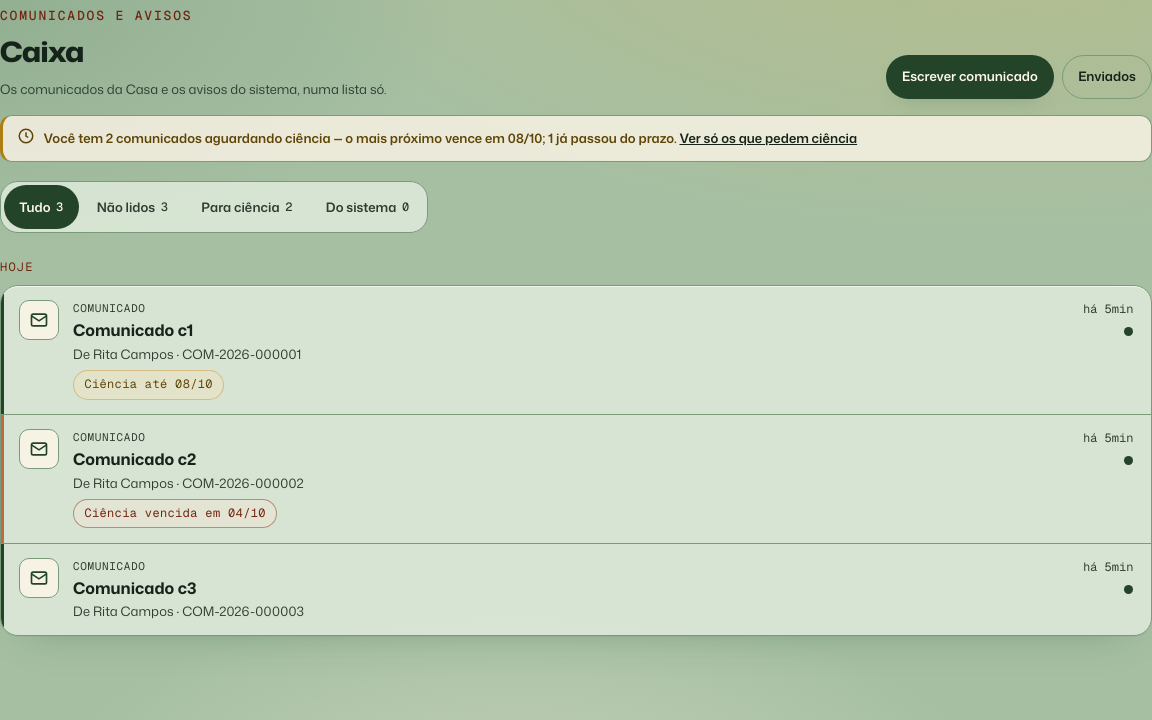
CaixaDaCasa — a faixa de ciência (fatia 3) › diz quantos aguardam, o prazo mais próximo e os já vencidos, e leva ao filtro
Step 1. Click the button "Ver só os que pedem ciência" → coordinates (768, 138), box top-left (680, 126), bottom-right (857, 150)
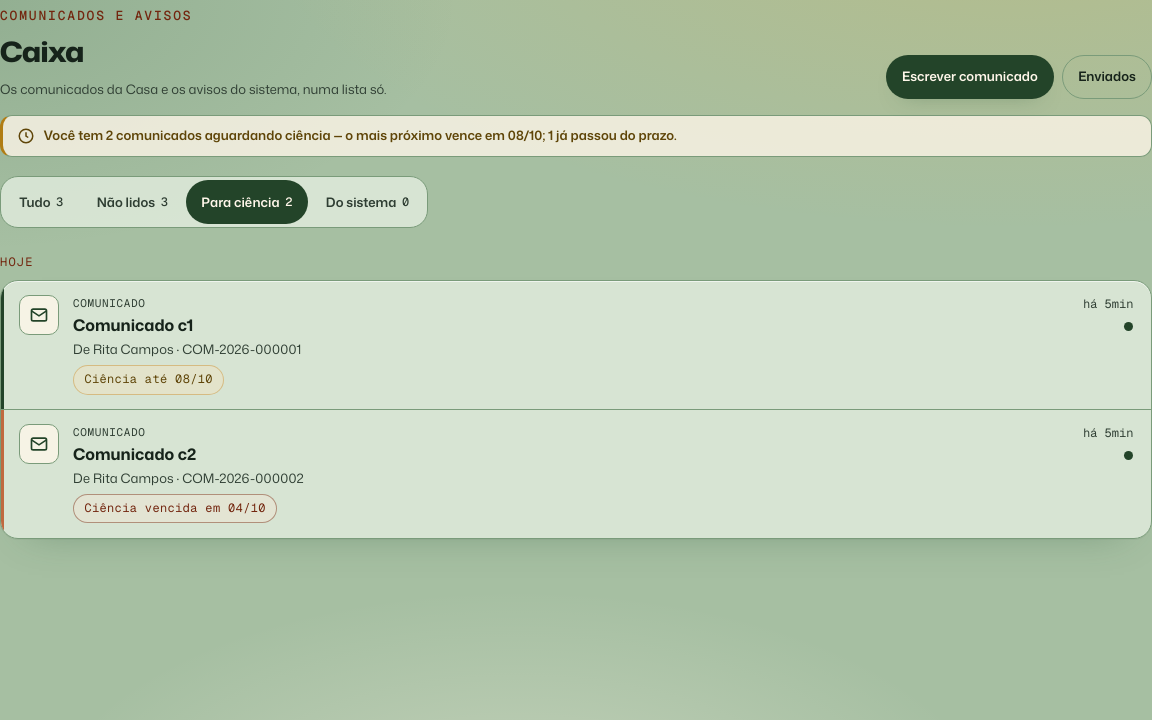
Expected: the link "Comunicado c3" is gone
